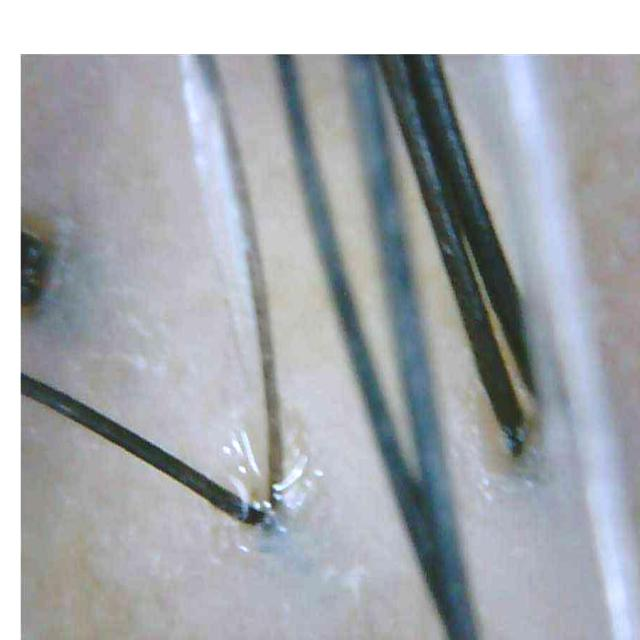o: (217, 417, 313, 526)
